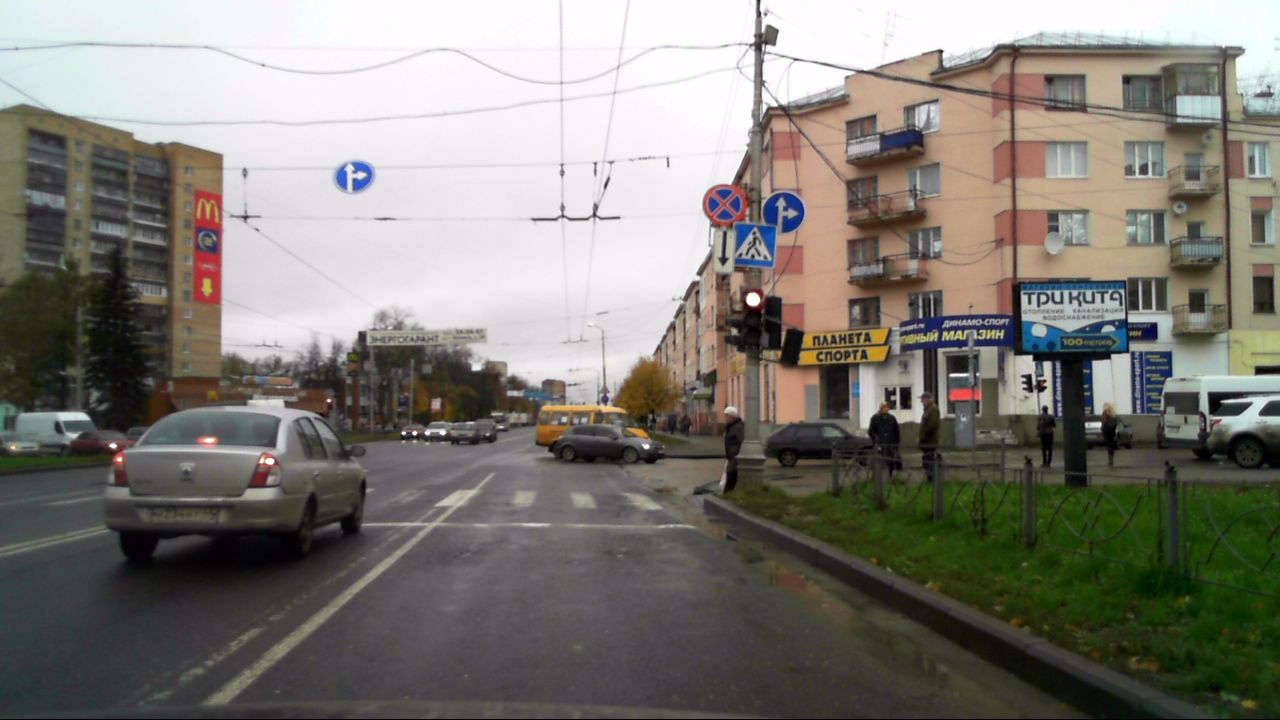No Parking: (702, 183, 746, 226)
